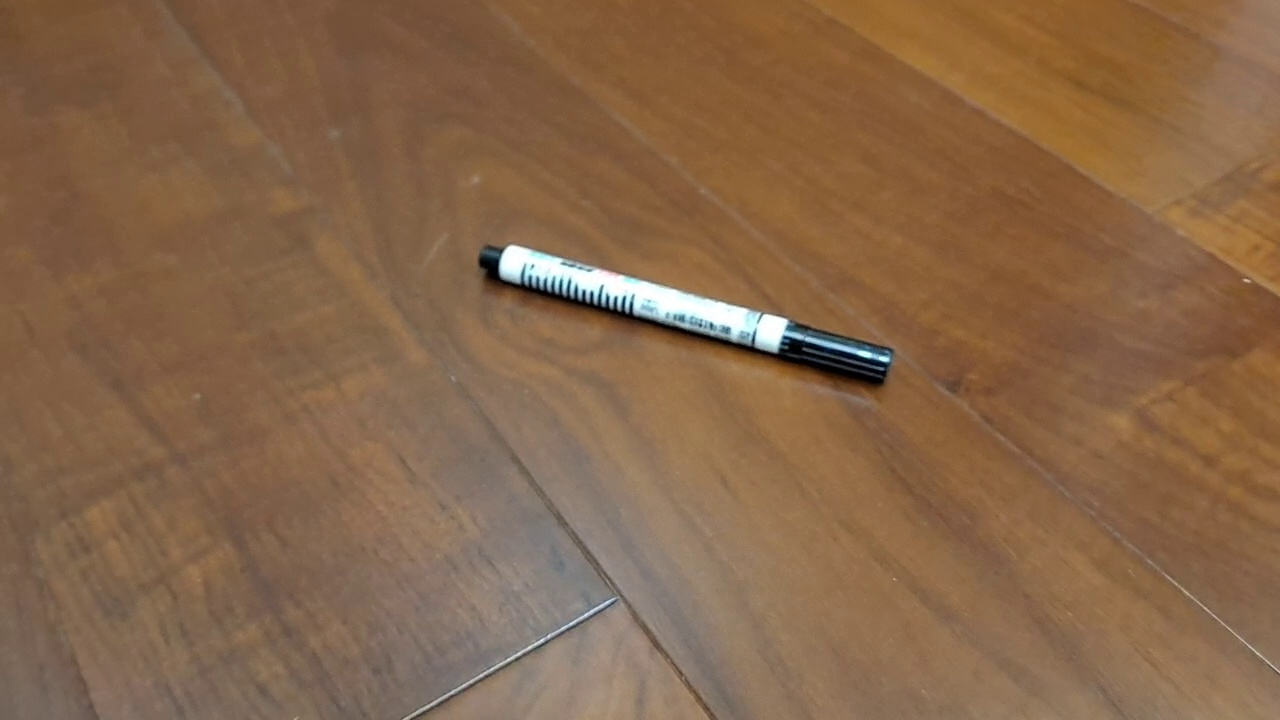pen: (478, 242, 895, 386)
